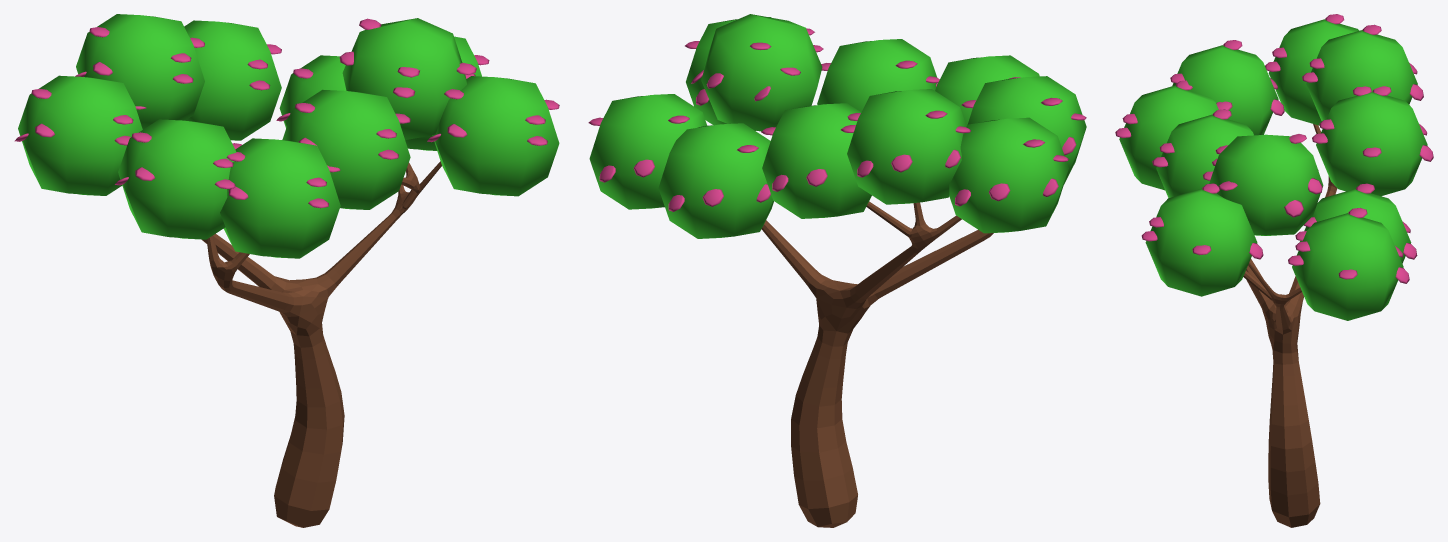
The model's file is Arbol-Primavera.fbx.
The picture shows the model from 3 angles, left to right: view 1: azimuth 30°, elevation 25°; view 2: azimuth 150°, elevation 25°; view 3: azimuth 270°, elevation 25°; orthographic projection. The views are drawn at different scales.
Parts seen in each view (by area): view 1: Plane.002, Cube.022, Cube.027, Cube.028, Cube.026, Cube.020, Cube.025, Cube.030, Cube.029, Cube.024, Cube.023; view 2: Plane.002, Cube.030, Cube.028, Cube.025, Cube.024, Cube.029, Cube.023, Cube.020, Cube.026, Cube.027, Cube.022; view 3: Plane.002, Cube.023, Cube.022, Cube.029, Cube.025, Cube.030, Cube.026, Cube.027, Cube.020, Cube.028, Cube.024.
Boxes of the visible parts, x1=… form: Plane.002: x1=201, y1=161, x2=441, y2=527; Cube.022: x1=427, y1=76, x2=559, y2=196; Cube.027: x1=220, y1=138, x2=340, y2=258; Cube.028: x1=14, y1=75, x2=146, y2=195; Cube.026: x1=115, y1=119, x2=241, y2=239; Cube.020: x1=282, y1=89, x2=410, y2=209; Cube.025: x1=339, y1=18, x2=476, y2=139; Cube.030: x1=75, y1=14, x2=204, y2=129; Cube.029: x1=184, y1=20, x2=281, y2=140; Cube.024: x1=276, y1=55, x2=346, y2=128; Cube.023: x1=405, y1=36, x2=489, y2=150; Plane.002: x1=761, y1=201, x2=993, y2=527; Cube.030: x1=847, y1=89, x2=970, y2=204; Cube.028: x1=949, y1=117, x2=1068, y2=233; Cube.025: x1=691, y1=14, x2=823, y2=131; Cube.024: x1=658, y1=123, x2=773, y2=238; Cube.029: x1=761, y1=103, x2=871, y2=218; Cube.023: x1=588, y1=94, x2=706, y2=209; Cube.020: x1=817, y1=39, x2=939, y2=112; Cube.026: x1=961, y1=76, x2=1086, y2=184; Cube.027: x1=935, y1=55, x2=1039, y2=125; Cube.022: x1=685, y1=17, x2=770, y2=130; Plane.002: x1=1243, y1=124, x2=1337, y2=527; Cube.023: x1=1288, y1=208, x2=1409, y2=320; Cube.022: x1=1141, y1=183, x2=1263, y2=296; Cube.029: x1=1312, y1=86, x2=1433, y2=196; Cube.025: x1=1209, y1=134, x2=1323, y2=235; Cube.030: x1=1302, y1=24, x2=1423, y2=120; Cube.026: x1=1170, y1=40, x2=1284, y2=135; Cube.027: x1=1115, y1=80, x2=1218, y2=190; Cube.020: x1=1152, y1=109, x2=1253, y2=198; Cube.028: x1=1265, y1=14, x2=1359, y2=125; Cube.024: x1=1295, y1=183, x2=1417, y2=263.
Bounding box in the file's own units: 713 × 728 × 478.
